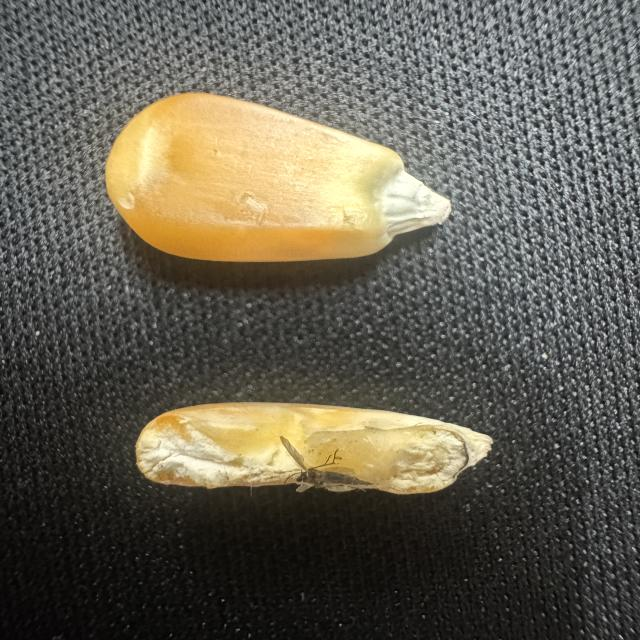Bad-Seed: (124, 396, 512, 500)
Good-Seed: (98, 84, 462, 274)
